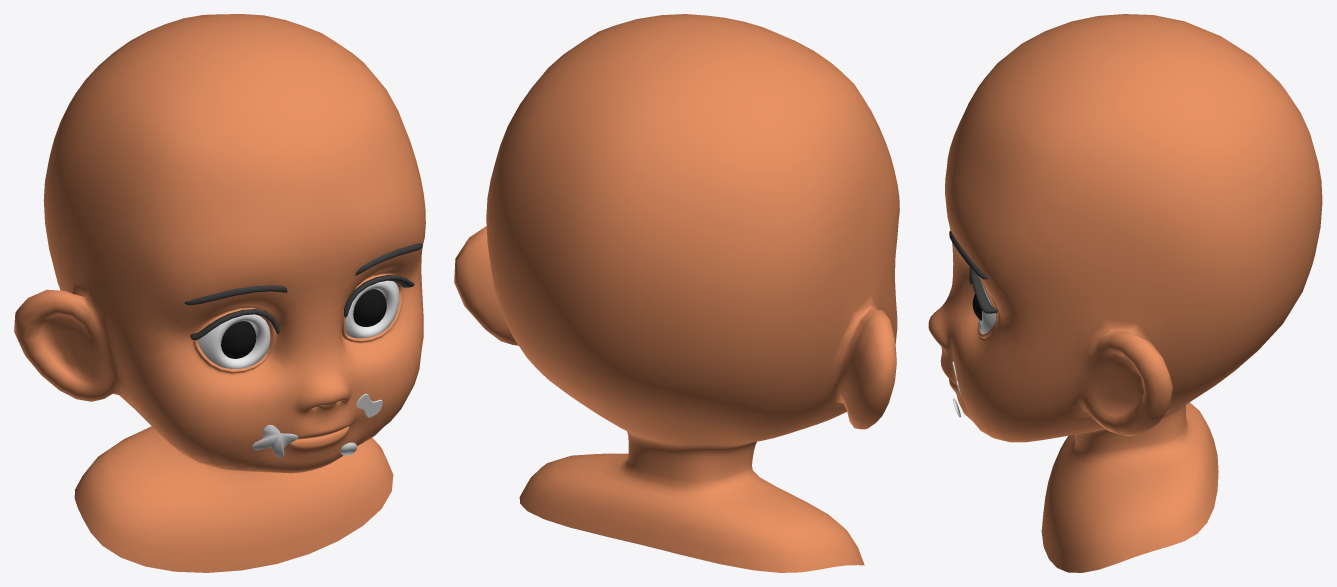
The model's file is babyhead_rev.fbx.
The picture shows the model from 3 angles, left to right: view 1: azimuth 30°, elevation 25°; view 2: azimuth 150°, elevation 25°; view 3: azimuth 270°, elevation 25°; orthographic projection. The views are drawn at different scales.
Parts seen in each view (by area): view 1: Baby_head, Sphere.001, Sphere, Circle; view 2: Baby_head; view 3: Baby_head.
Part boxes in pixels (x1,y1,x2,y2): Baby_head: [14, 14, 425, 572]; Sphere.001: [221, 321, 256, 358]; Sphere: [353, 289, 386, 326]; Circle: [252, 425, 297, 457]; Baby_head: [454, 14, 899, 572]; Baby_head: [928, 14, 1322, 572].
Bounding box in the file's own units: 170 × 201 × 144.
